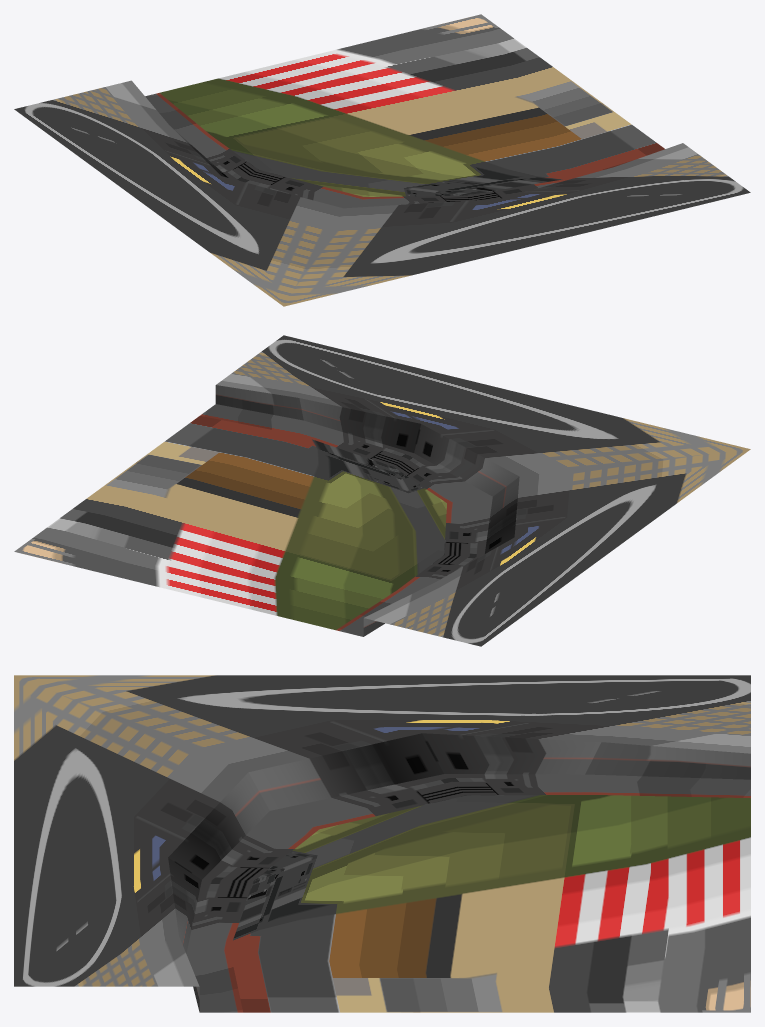
Rendered from road_Asphalt_Bend.gltf.
3 views of the same model, one above another, from view 1: azimuth 30°, elevation 25°; view 2: azimuth 150°, elevation 25°; view 3: azimuth 270°, elevation 25° (orthographic). The views are drawn at different scales.
Visible parts, largest first — view 1: road_Asphalt_Bend; view 2: road_Asphalt_Bend; view 3: road_Asphalt_Bend.
Part boxes in pixels (left/top/right/bottom): road_Asphalt_Bend: left=14, top=14, right=750, bottom=306; road_Asphalt_Bend: left=14, top=335, right=750, bottom=646; road_Asphalt_Bend: left=14, top=675, right=750, bottom=1012.
Size of the model in its own units: 5 by 0.1948 by 5.
1 material, 1 textured.
